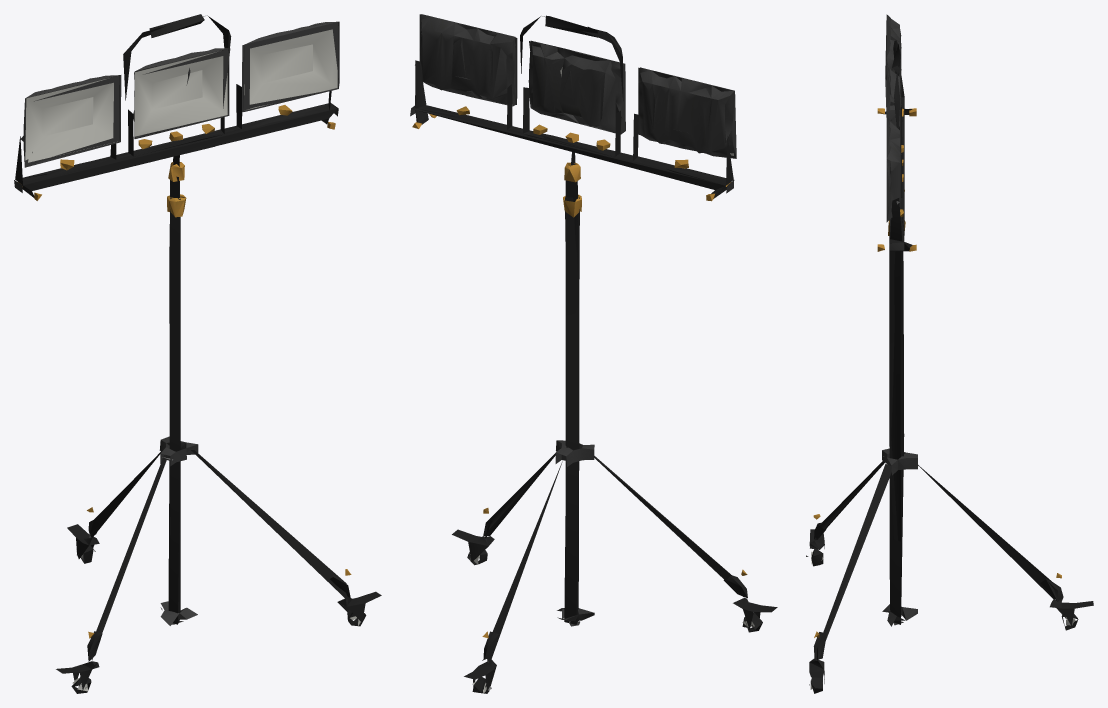
File: simready-light-work-tripod.lite.e25afdab.glb
3 renders of one model, left to right at view 1: azimuth 30°, elevation 25°; view 2: azimuth 150°, elevation 25°; view 3: azimuth 270°, elevation 25°, orthographic. The views are drawn at different scales.
Parts seen in each view (by area): view 1: model; view 2: model; view 3: model.
Part boxes in pixels (left/top/right/bottom): model: left=14, top=14, right=381, bottom=693; model: left=410, top=14, right=777, bottom=693; model: left=806, top=14, right=1093, bottom=693.
Bounding box in the file's own units: 0.6821 × 1.24 × 0.5603.
7 materials, 5 textured.
